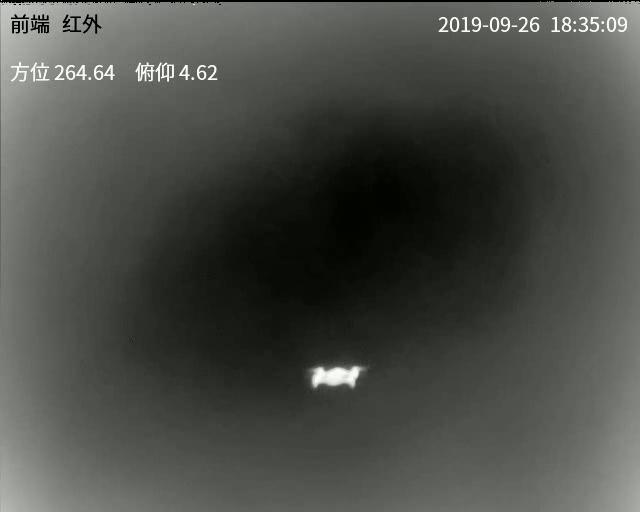DRONE: (308, 364, 363, 389)
